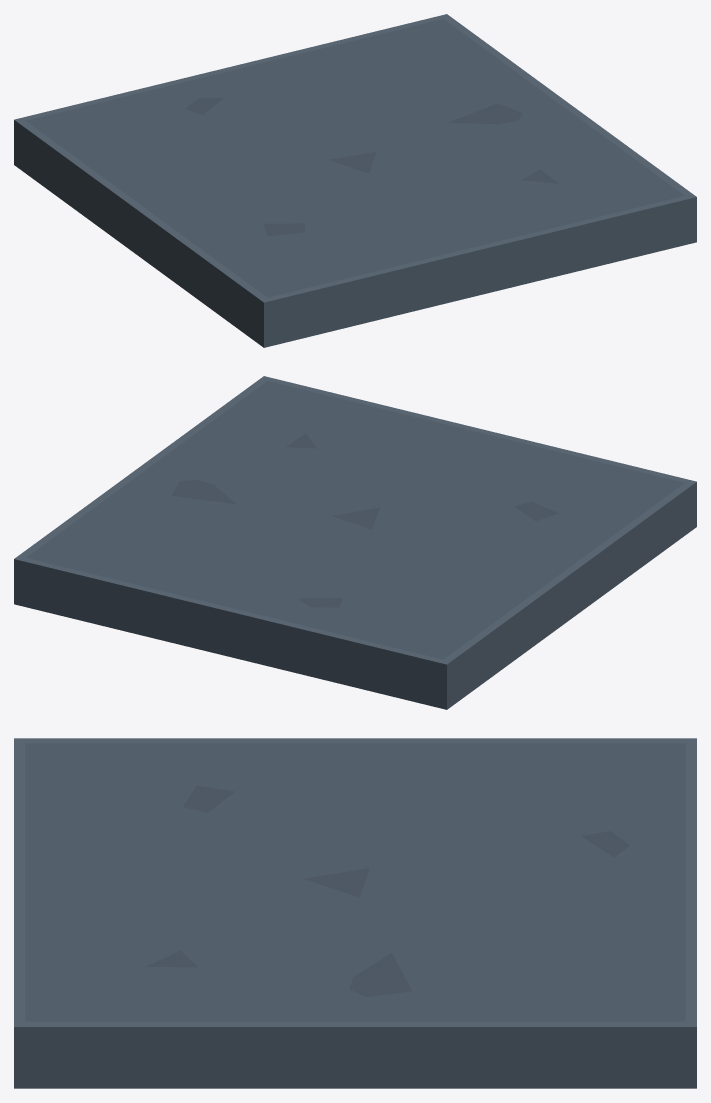
Rendered from ConcrateSlabs_C_2_2.fbx.
The picture shows the model from 3 angles, top to bottom: view 1: azimuth 30°, elevation 25°; view 2: azimuth 150°, elevation 25°; view 3: azimuth 270°, elevation 25°; orthographic projection. The views are drawn at different scales.
Parts seen in each view (by area): view 1: ConcrateSlabs_C_2_2; view 2: ConcrateSlabs_C_2_2; view 3: ConcrateSlabs_C_2_2.
Part boxes in pixels (x1=…): ConcrateSlabs_C_2_2: x1=14, y1=14, x2=696, y2=347; ConcrateSlabs_C_2_2: x1=14, y1=376, x2=696, y2=709; ConcrateSlabs_C_2_2: x1=14, y1=738, x2=696, y2=1088.
Size of the model in its own units: 400 by 40 by 400.
